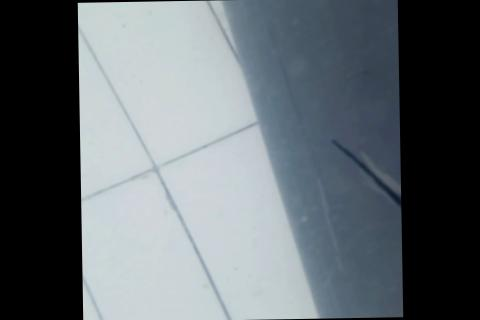keretakan: (329, 138, 401, 227)
